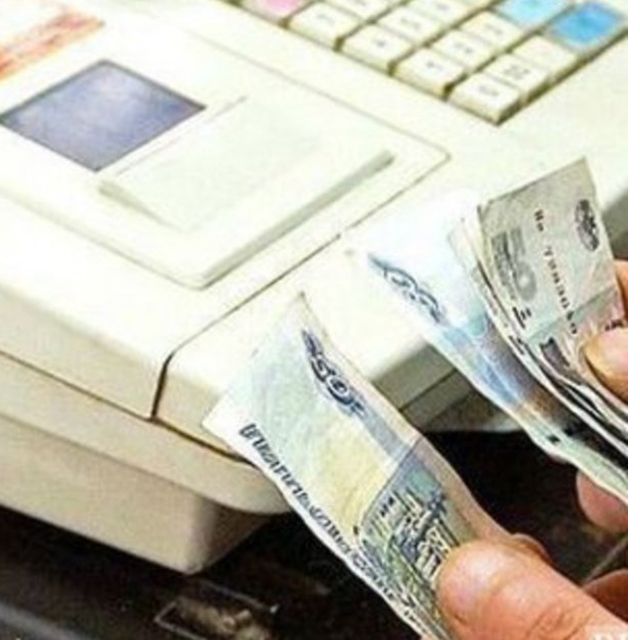banknotes: (199, 292, 511, 640), (335, 157, 629, 506)
